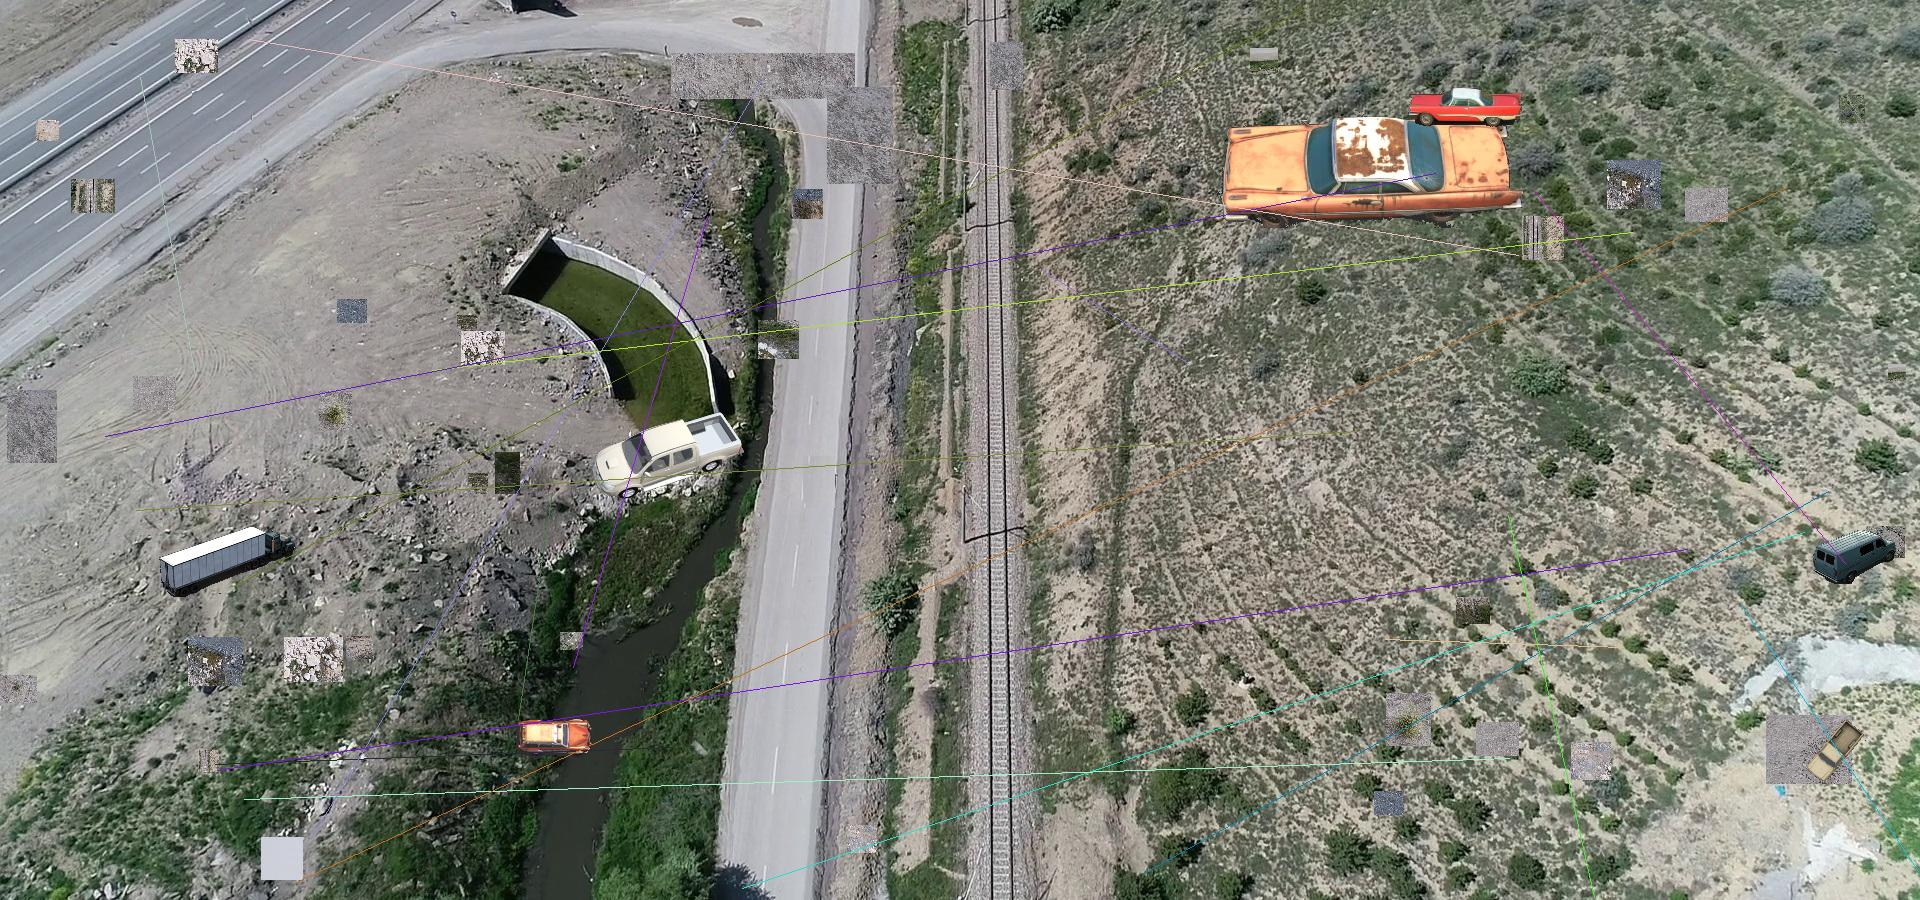arac: (1209, 110, 1560, 228), (593, 411, 744, 498), (154, 527, 296, 598), (1407, 88, 1526, 129), (1813, 527, 1896, 584), (1802, 720, 1867, 784), (516, 718, 598, 759)
